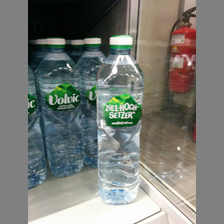water: (96, 35, 145, 206), (36, 37, 86, 178)
